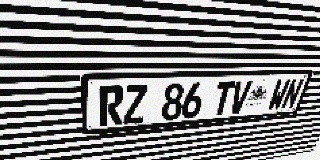6: (181, 82, 206, 119)
8: (161, 83, 186, 121)
N: (280, 79, 305, 110)
R: (99, 85, 124, 127)
T: (211, 81, 236, 116)
V: (228, 81, 253, 115)
W: (266, 79, 291, 111)
Z: (123, 84, 148, 124)
